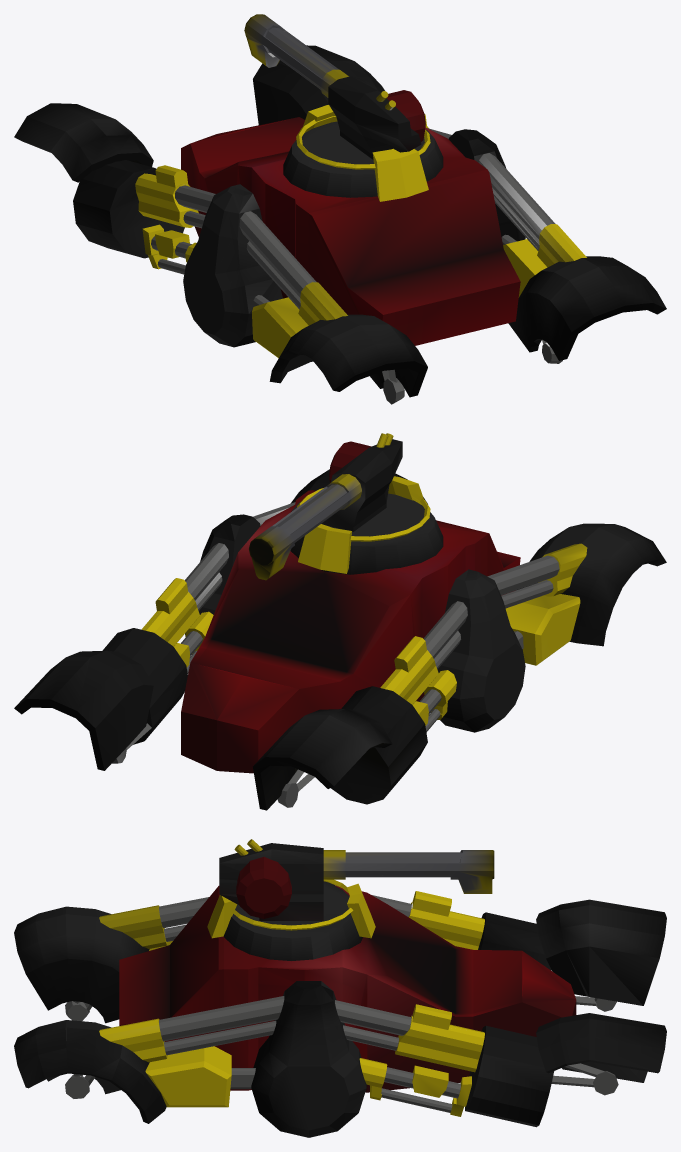
Rendered from auto6.fbx.
The picture shows the model from 3 angles, top to bottom: view 1: azimuth 30°, elevation 25°; view 2: azimuth 150°, elevation 25°; view 3: azimuth 270°, elevation 25°; orthographic projection. The views are drawn at different scales.
Parts seen in each view (by area): view 1: Mesh20; view 2: Mesh20; view 3: Mesh20.
Part boxes in pixels (left/top/right/bottom): Mesh20: left=14, top=14, right=666, bottom=404; Mesh20: left=14, top=433, right=666, bottom=810; Mesh20: left=14, top=839, right=666, bottom=1137.
Size of the model in its own units: 8.1 by 5.58 by 14.09.
